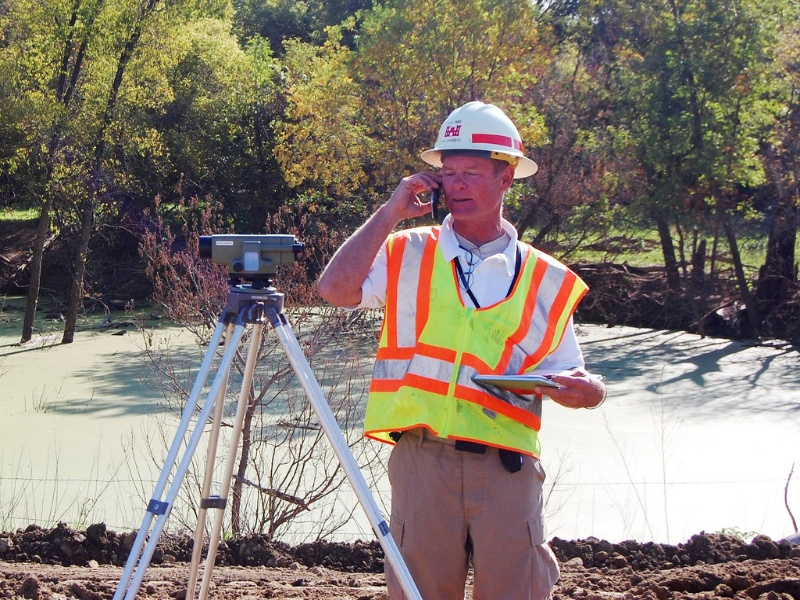Baret: (435, 100, 526, 164)
